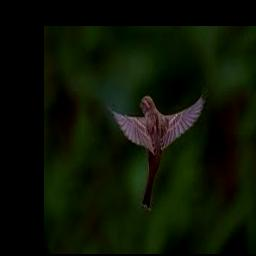Sparrow: (105, 87, 208, 211)
